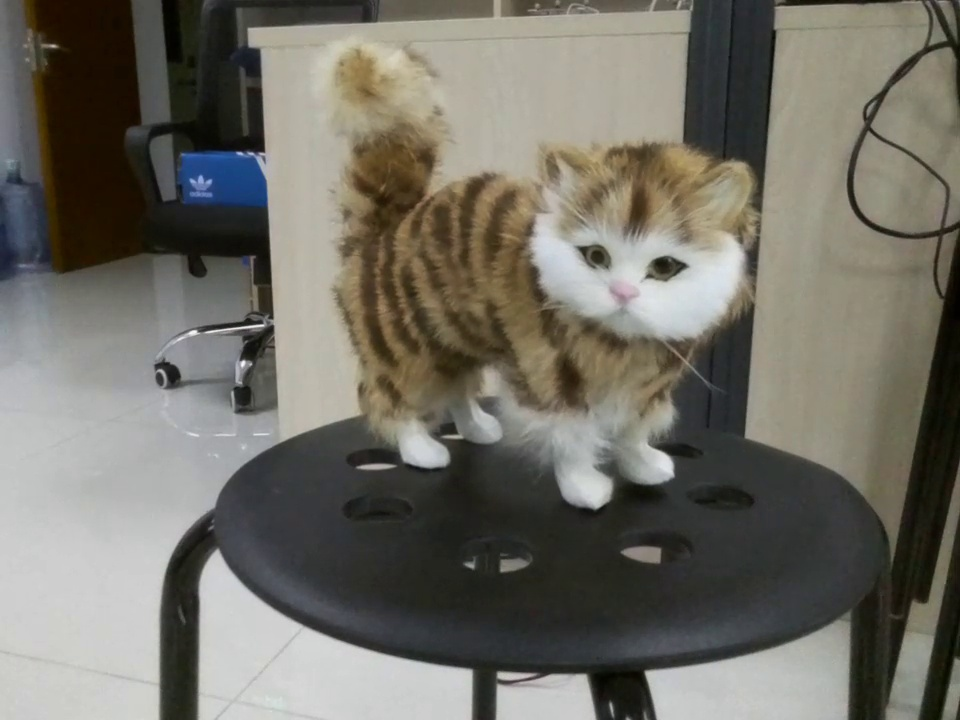cat: (312, 31, 756, 516)
